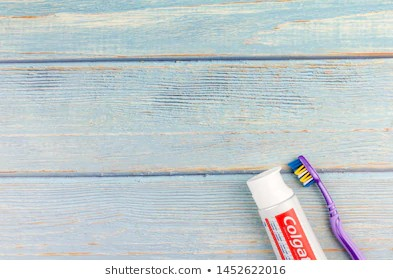toothbrush: (286, 147, 355, 253)
